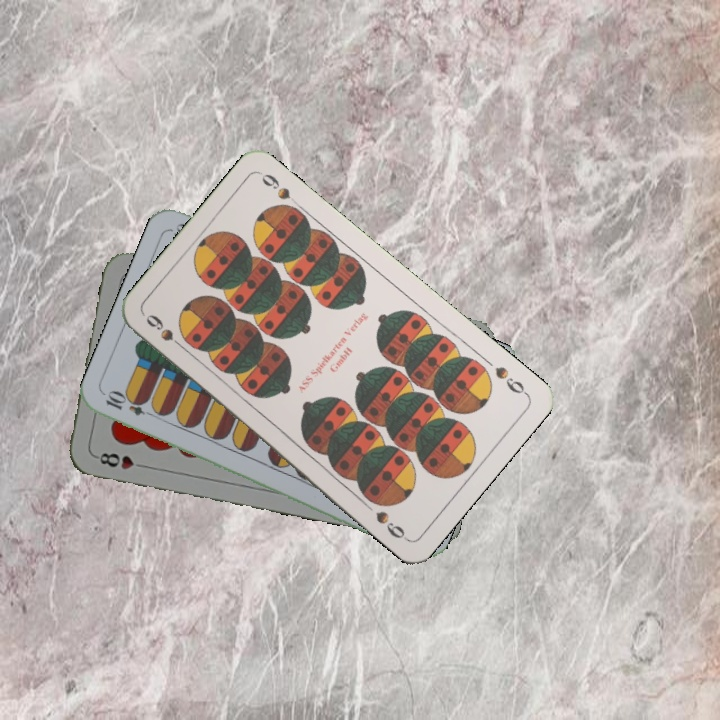E10: (101, 389, 160, 421)
H8: (91, 448, 150, 472)
S9: (142, 310, 190, 354), (491, 362, 531, 398)
